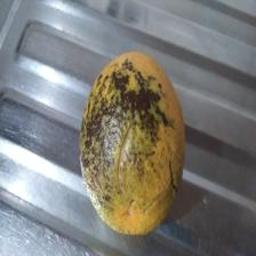Orange Semirotten: (59, 58, 215, 230)
